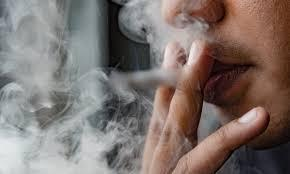smoker: (55, 0, 271, 174)
